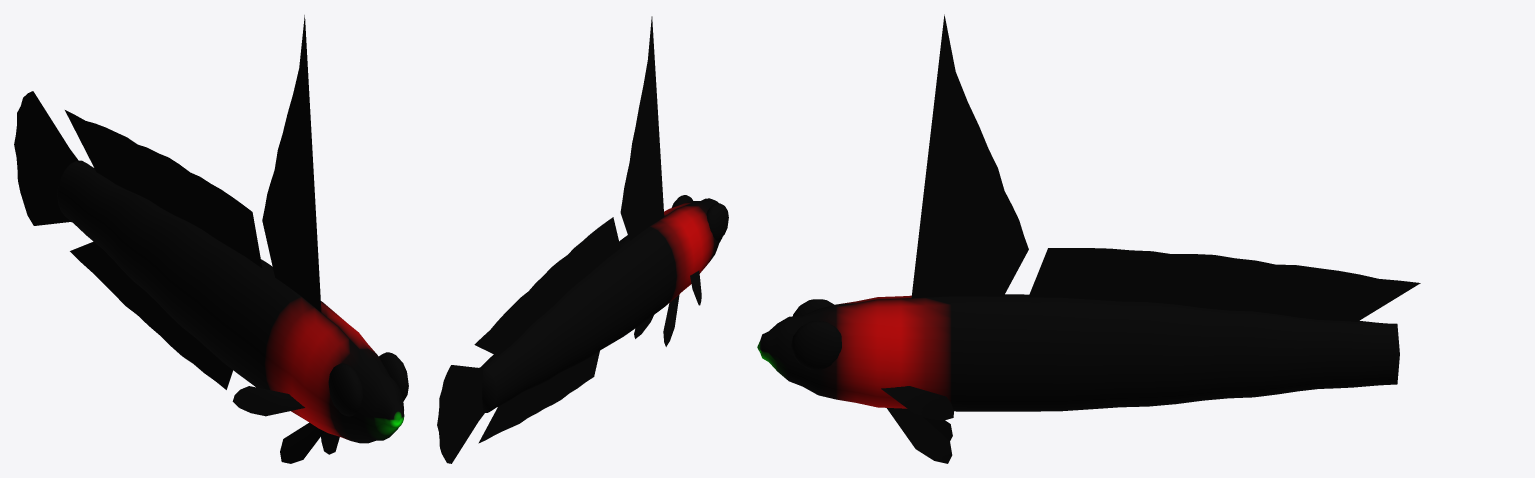
The model's file is firefish.glb.
The picture shows the model from 3 angles, left to right: view 1: azimuth 30°, elevation 25°; view 2: azimuth 150°, elevation 25°; view 3: azimuth 270°, elevation 25°; orthographic projection. The views are drawn at different scales.
Parts seen in each view (by area): view 1: fire_body, fire_dorsal, fire_dorsal1, fire_caudal, fire_anal, fire_pectoralL, fire_eyeL, fire_pelvicL, fire_eyeR; view 2: fire_body, fire_dorsal, fire_dorsal1, fire_caudal, fire_anal, fire_eyeL, fire_pelvicL; view 3: fire_body, fire_dorsal, fire_dorsal1, fire_eyeR, fire_pelvicR, fire_pectoralR.
Boxes of the visible parts, left/top/right/bottom form: fire_body: left=57, top=160, right=404, bottom=443; fire_dorsal: left=65, top=110, right=262, bottom=268; fire_dorsal1: left=262, top=15, right=321, bottom=312; fire_caudal: left=14, top=91, right=79, bottom=225; fire_anal: left=70, top=241, right=232, bottom=389; fire_pectoralL: left=232, top=386, right=304, bottom=416; fire_eyeL: left=328, top=363, right=363, bottom=416; fire_pelvicL: left=280, top=422, right=324, bottom=463; fire_eyeR: left=379, top=352, right=408, bottom=401; fire_body: left=480, top=198, right=722, bottom=412; fire_dorsal: left=474, top=217, right=620, bottom=356; fire_dorsal1: left=620, top=16, right=664, bottom=240; fire_caudal: left=437, top=365, right=485, bottom=463; fire_anal: left=478, top=351, right=599, bottom=443; fire_eyeL: left=706, top=203, right=728, bottom=240; fire_pelvicL: left=663, top=294, right=679, bottom=346; fire_body: left=757, top=294, right=1399, bottom=411; fire_dorsal: left=1028, top=248, right=1420, bottom=321; fire_dorsal1: left=911, top=14, right=1028, bottom=298; fire_eyeR: left=791, top=321, right=841, bottom=370; fire_pelvicR: left=887, top=408, right=952, bottom=463; fire_pectoralR: left=881, top=386, right=953, bottom=420.
Bounding box in the file's own units: 0.2423 × 0.7589 × 1.19.
